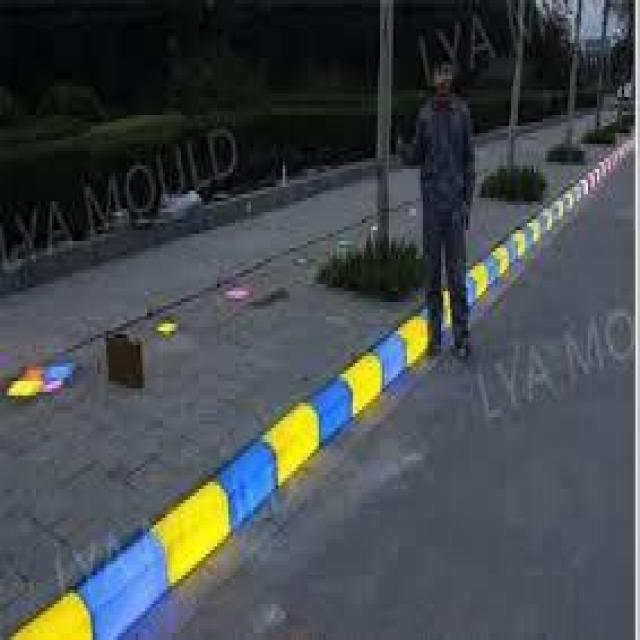bump: (18, 331, 415, 640)
